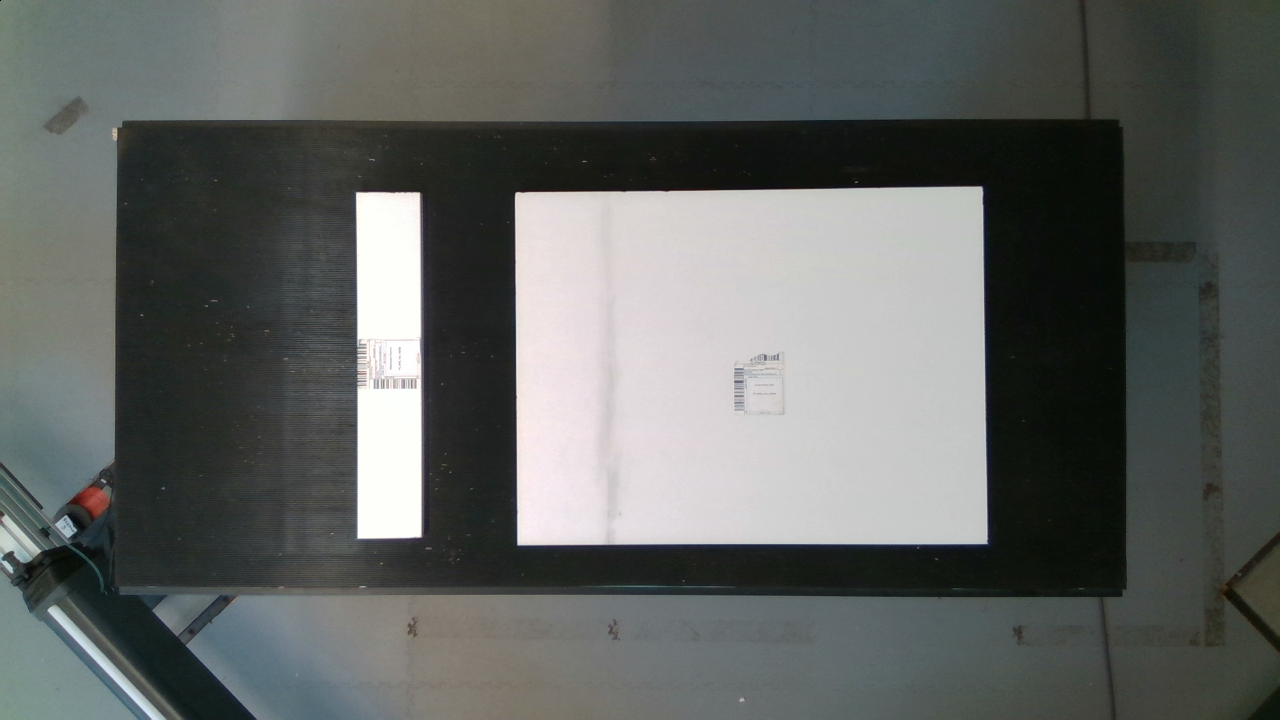barcode: (726, 336, 798, 426), (351, 331, 429, 399)
part1: (344, 175, 435, 551)
part2: (498, 181, 1003, 550)
